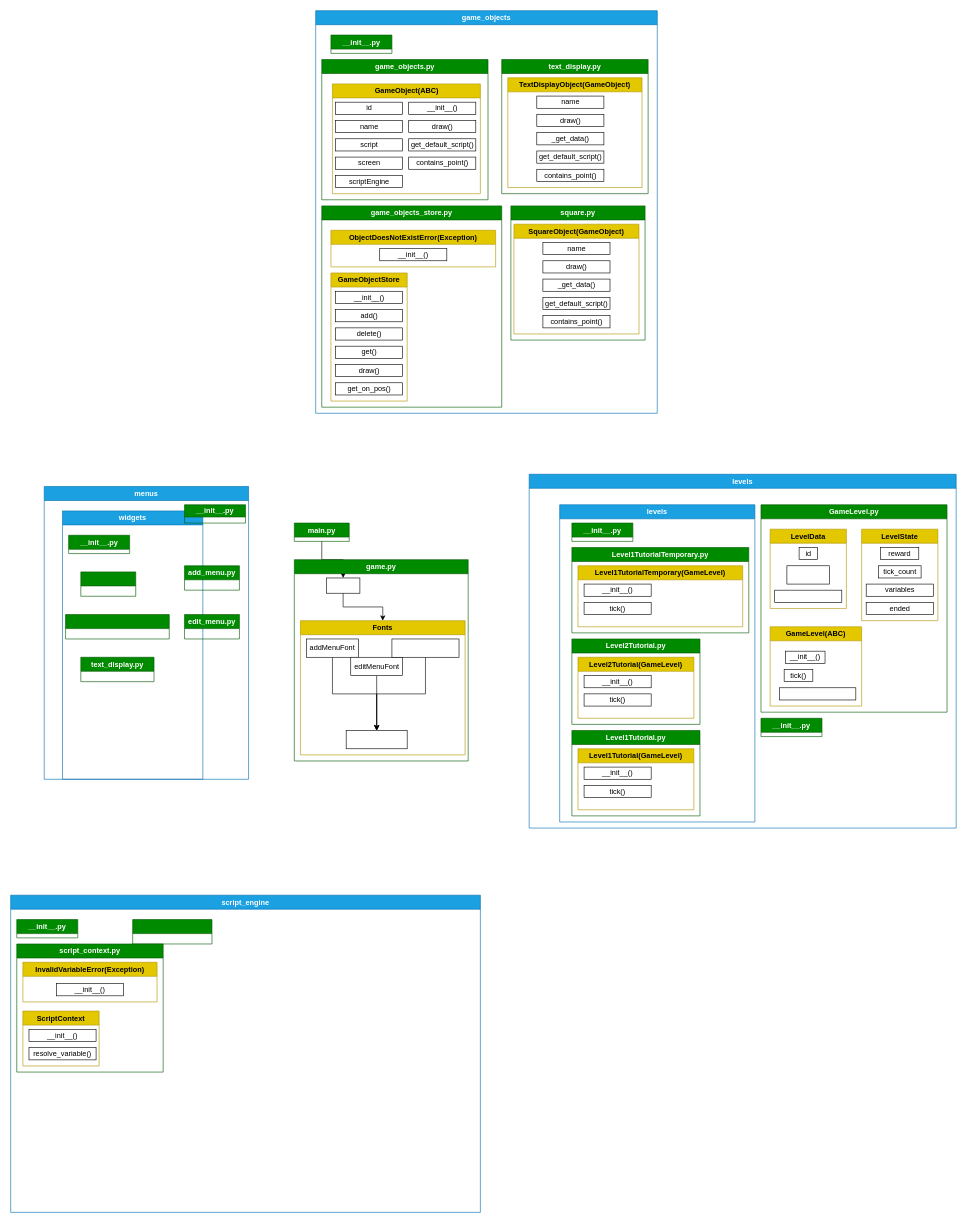
Some shapes in this 967 by 1223 pixel diagram are drawn without their labels. The centre of each missing label's shape, as x and y in pixels:
"_resource_path()" goes at (376,739).
"button.py" goes at (108,583).
"check_and_set_end()" goes at (817,693).
"focusable_textbox.py" goes at (117,626).
"inputCount" goes at (808,574).
"main()" goes at (343,585).
"rewardTreshhold" goes at (808,596).
"script_engine.py" goes at (172,931).
"uiTextDisplayFont" goes at (425,647).
